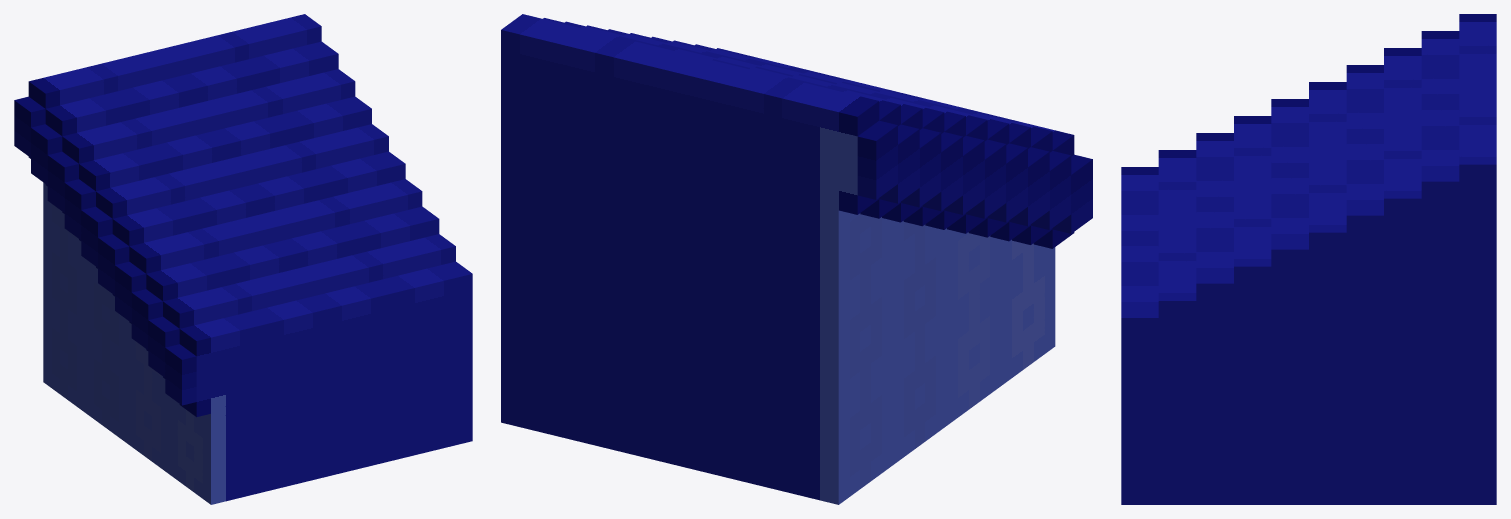
File: half_ramp_full_left.glb
3 renders of one model, left to right at view 1: azimuth 30°, elevation 25°; view 2: azimuth 150°, elevation 25°; view 3: azimuth 270°, elevation 25°, orthographic. The views are drawn at different scales.
Parts seen in each view (by area): view 1: half_ramp_full_left; view 2: half_ramp_full_left; view 3: half_ramp_full_left.
Boxes of the visible parts, x1=… form: half_ramp_full_left: x1=14, y1=14, x2=472, y2=504; half_ramp_full_left: x1=501, y1=14, x2=1092, y2=504; half_ramp_full_left: x1=1121, y1=14, x2=1496, y2=504.
Bounding box in the file's own units: 2 × 2 × 2.
1 material, 1 textured.
